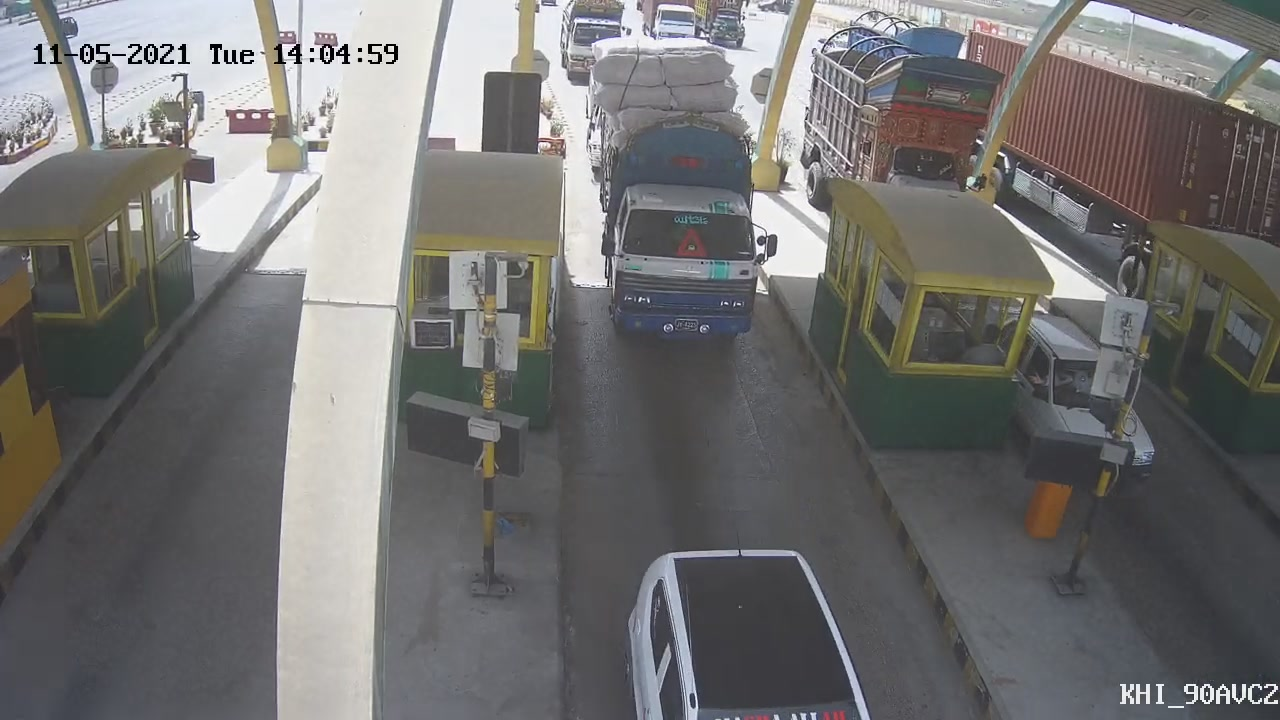F5: (599, 41, 769, 350)
